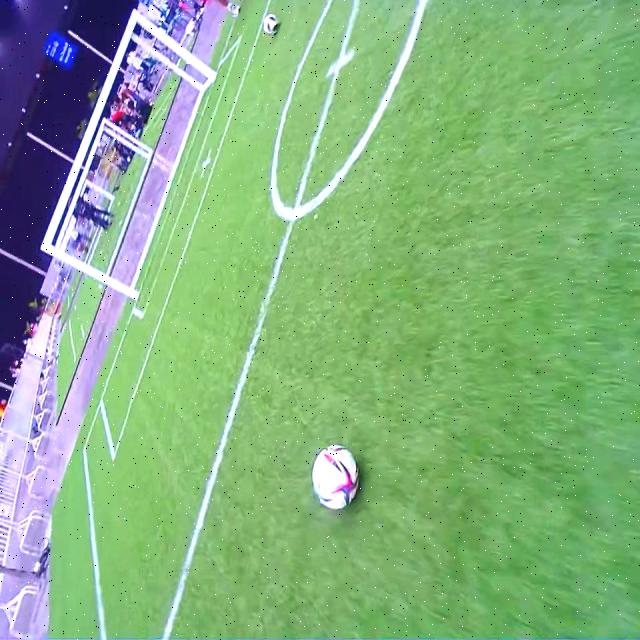ball: (313, 443, 358, 510), (264, 14, 278, 36)
